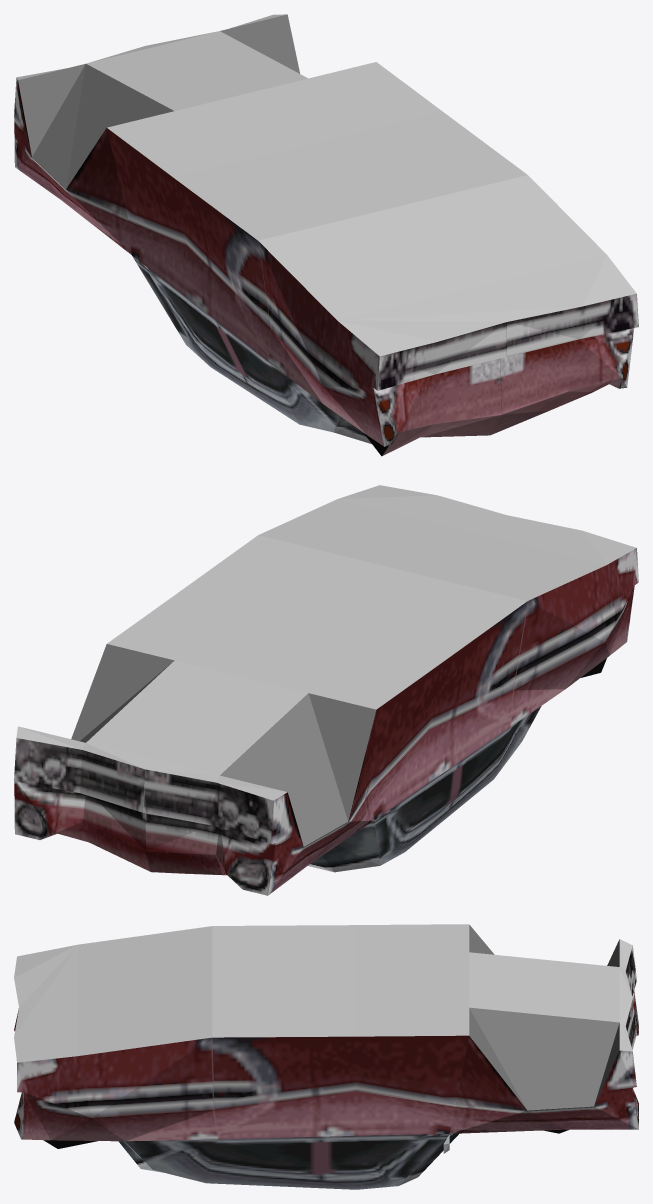
The model's file is HAVANA_model2_damaged.obj.
3 renders of one model, top to bottom at view 1: azimuth 30°, elevation 25°; view 2: azimuth 150°, elevation 25°; view 3: azimuth 270°, elevation 25°, orthographic. The views are drawn at different scales.
Parts seen in each view (by area): view 1: HAVANA_model2_damaged; view 2: HAVANA_model2_damaged; view 3: HAVANA_model2_damaged.
Boxes of the visible parts, x1,y1,x2,y2 form: HAVANA_model2_damaged: (14, 14, 638, 456); HAVANA_model2_damaged: (14, 485, 638, 895); HAVANA_model2_damaged: (14, 924, 638, 1189).
Bounding box in the file's own units: 272 × 190 × 611.
